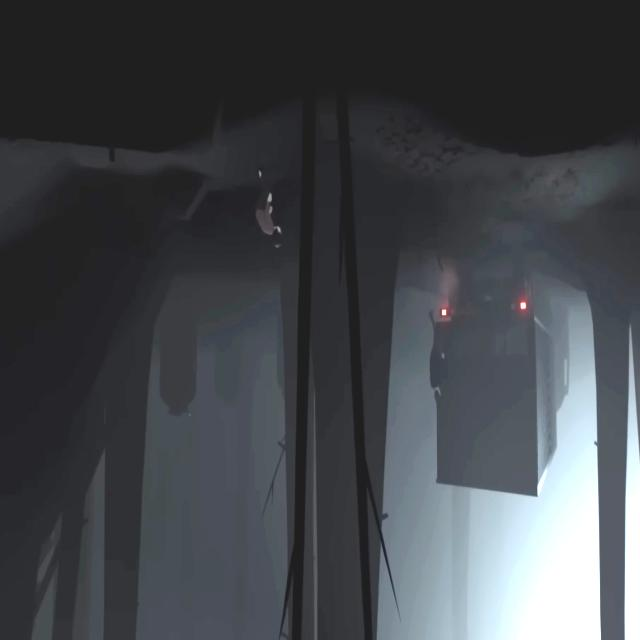boy: (254, 167, 281, 248)
